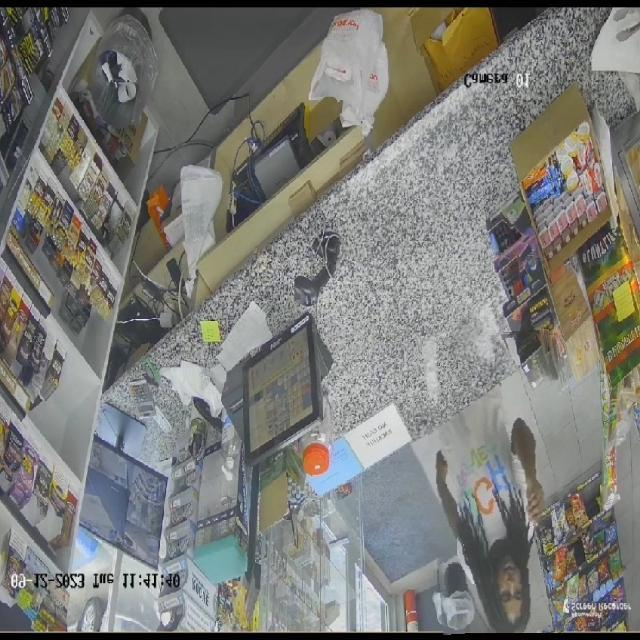Normal: (427, 331, 564, 633)
